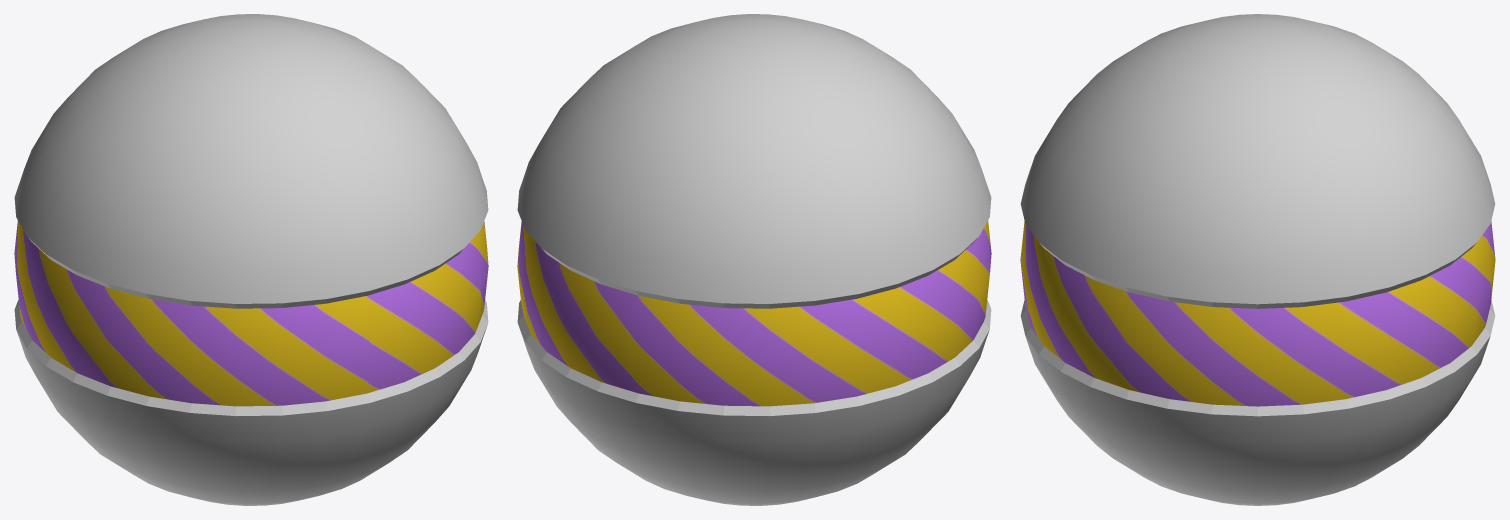
The model's file is YELLOW_Sphere_move.fbx.
3 renders of one model, left to right at view 1: azimuth 30°, elevation 25°; view 2: azimuth 150°, elevation 25°; view 3: azimuth 270°, elevation 25°, orthographic.
Visible parts, largest first — view 1: YELLOW_Sphere_move, RotateMesh; view 2: YELLOW_Sphere_move, RotateMesh; view 3: YELLOW_Sphere_move, RotateMesh.
Part boxes in pixels (box(x1,y1,x2,y2)): YELLOW_Sphere_move: box(14, 14, 488, 505); RotateMesh: box(14, 220, 488, 406); YELLOW_Sphere_move: box(517, 14, 991, 505); RotateMesh: box(517, 220, 991, 406); YELLOW_Sphere_move: box(1020, 14, 1495, 505); RotateMesh: box(1020, 221, 1495, 406).
Bounding box in the file's own units: 62.26 × 64.54 × 62.26.
